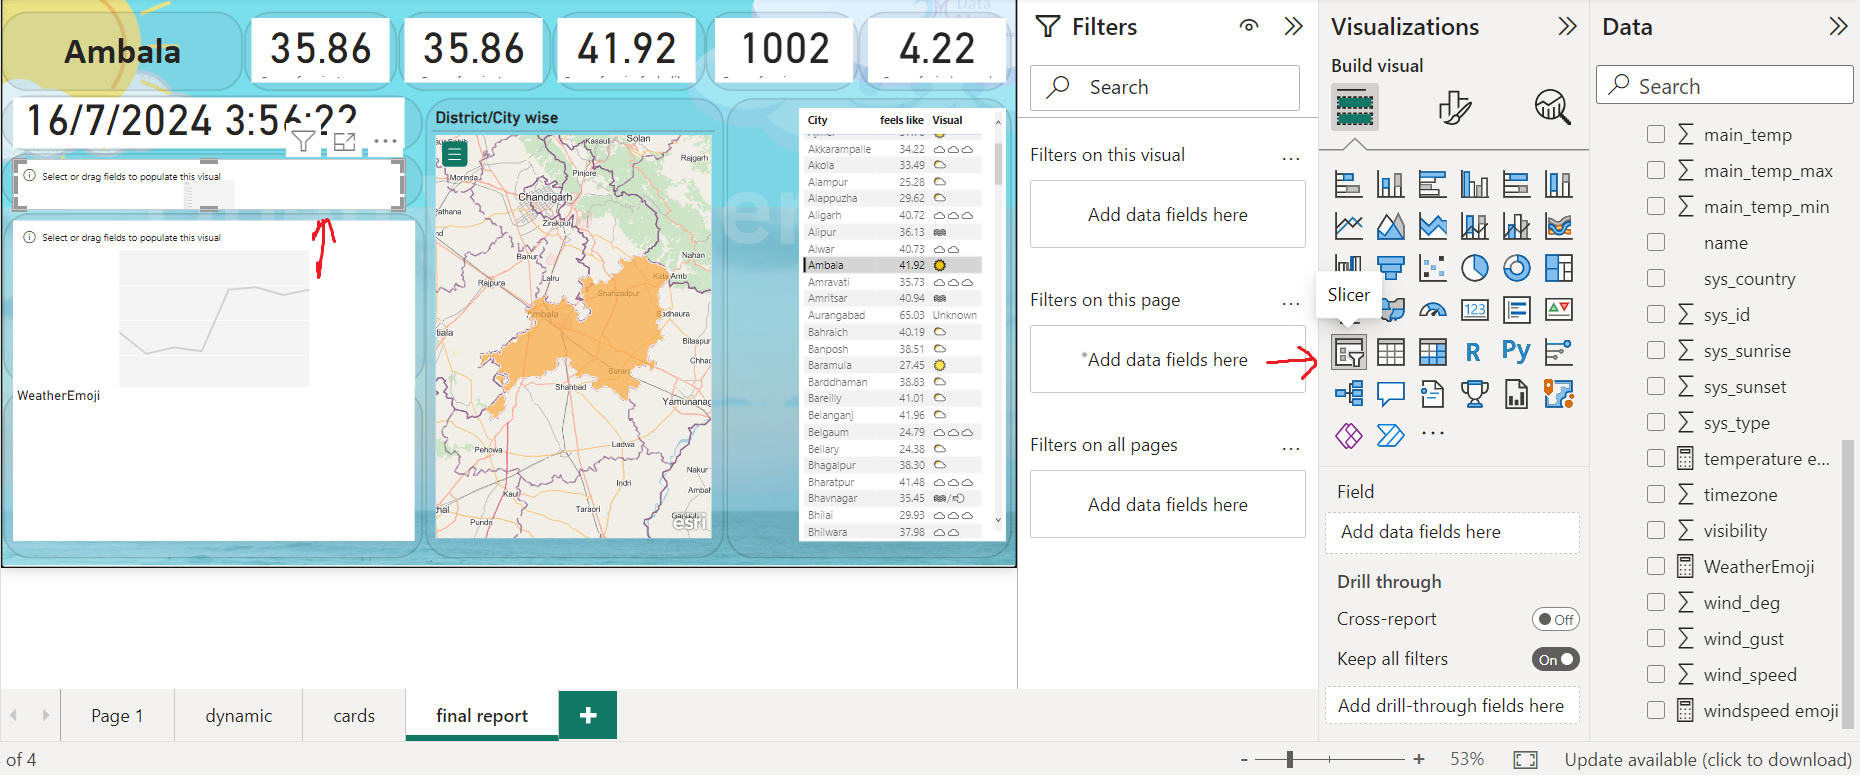

This screenshot's page, from the dashboard's own definition file:
{"tool":"powerbi","page":{"name":"final report","canvas":[1280,720],"ordinal":3},"visuals":[{"type":"card","title":"Max_Temp","fields":{"Values":["Sum(finalOpenWeatherData.main_temp_max)"]},"box":[308,28.3,173.9,81.3],"z":0},{"type":"card","title":"Min_Temp","fields":{"Values":["Sum(finalOpenWeatherData.main_temp_min)"]},"box":[508.4,26.5,173.9,81.3],"z":1000},{"type":"card","title":"Feels like","fields":{"Values":["Sum(finalOpenWeatherData.main_feels_like)"]},"box":[701.1,26.5,173.9,81.3],"z":2000},{"type":"card","title":"Pressure","fields":{"Values":["Sum(finalOpenWeatherData.main_pressure)"]},"box":[899.5,26.5,173.9,81.3],"z":3000},{"type":"card","title":"Wind Speed km/hr","fields":{"Values":["Sum(finalOpenWeatherData.wind_speed)"]},"box":[47.5,577.5,172.5,80],"z":4000},{"type":"card","fields":{"Values":["Min(finalOpenWeatherData.name)"]},"box":[0,24.6,275.9,83.2],"z":5000},{"type":"card","fields":{"Values":["Min(finalOpenWeatherData.date_time)"]},"box":[15.1,126.6,493.2,64.3],"z":6000},{"type":"slicer","fields":{"Values":["finalOpenWeatherData.name"]},"box":[920.3,139.8,359.1,194.6],"z":7000},{"type":"card","fields":{"Values":["finalOpenWeatherData.temperature"]},"box":[430.9,9.4,100.2,120.9],"z":8000},{"type":"card","fields":{"Values":["finalOpenWeatherData.temperature"]},"box":[631.2,5.7,100.2,120.9],"z":9000},{"type":"card","fields":{"Values":["finalOpenWeatherData.temperature"]},"box":[820.2,0,100.2,120.9],"z":10000},{"type":"card","fields":{"Values":["finalOpenWeatherData.degree emoji"]},"box":[421.4,24.6,60.5,66.1],"z":11000},{"type":"card","fields":{"Values":["finalOpenWeatherData.degree emoji"]},"box":[621.7,24.6,60.5,66.1],"z":12000},{"type":"card","fields":{"Values":["finalOpenWeatherData.degree emoji"]},"box":[810.7,24.6,60.5,66.1],"z":13000},{"type":"tableEx","fields":{"Values":["finalOpenWeatherData.name","Sum(finalOpenWeatherData.main_feels_like)","finalOpenWeatherData.WeatherEmoji","finalOpenWeatherData.description"]},"box":[920.3,353.4,359.1,351.5],"z":14000},{"type":"card","fields":{"Values":["finalOpenWeatherData.windspeed emoji"]},"box":[177.5,570,85,87.5],"z":15000},{"type":"lineChart","title":"Temp by City","fields":{"Category":["finalOpenWeatherData.name"],"Y":["Sum(finalOpenWeatherData.main_temp_max)"]},"box":[15,283.3,493.3,208.3],"z":16000},{"type":"card","fields":{"Values":["finalOpenWeatherData.WeatherEmoji"]},"box":[280,190.9,172.7,69.1],"z":17000},{"type":"esriVisual","title":"City_Map","fields":{"Location":["finalOpenWeatherData.name"]},"box":[554.9,140.9,345.7,546.1],"z":18000},{"type":"card","title":"Wind Angle degree","fields":{"Values":["Sum(finalOpenWeatherData.wind_deg)"]},"box":[260,575,192.5,82.5],"z":19000},{"type":"card","fields":{"Values":["finalOpenWeatherData.angle_emoji"]},"box":[395,562.5,135,95],"z":20000},{"type":"card","fields":{"Values":["Min(finalOpenWeatherData.main)"]},"box":[63.6,181.8,330.9,87.3],"z":21000},{"type":"card","title":"Country Code","fields":{"Values":["Min(finalOpenWeatherData.sys_country)"]},"box":[1100,27.3,160,83.6],"z":22000}]}

Visuals, with their boxes on the page's 1280x720 design canvas (x1, y1, x2, y2). These are canvas units, not pixel positions in the 1860x779 screenshot, which may show the page scaled, cropped or inside an application window:
"Max_Temp" card: x1=308, y1=28, x2=482, y2=110
"Min_Temp" card: x1=508, y1=26, x2=682, y2=108
"Feels like" card: x1=701, y1=26, x2=875, y2=108
"Pressure" card: x1=900, y1=26, x2=1073, y2=108
"Wind Speed km/hr" card: x1=48, y1=578, x2=220, y2=658
card - Min(finalOpenWeatherData.name): x1=0, y1=25, x2=276, y2=108
card - Min(finalOpenWeatherData.date_time): x1=15, y1=127, x2=508, y2=191
slicer - finalOpenWeatherData.name: x1=920, y1=140, x2=1279, y2=334
card - finalOpenWeatherData.temperature: x1=431, y1=9, x2=531, y2=130
card - finalOpenWeatherData.temperature: x1=631, y1=6, x2=731, y2=127
card - finalOpenWeatherData.temperature: x1=820, y1=0, x2=920, y2=121
card - finalOpenWeatherData.degree emoji: x1=421, y1=25, x2=482, y2=91
card - finalOpenWeatherData.degree emoji: x1=622, y1=25, x2=682, y2=91
card - finalOpenWeatherData.degree emoji: x1=811, y1=25, x2=871, y2=91
tableEx - finalOpenWeatherData.name x Sum(finalOpenWeatherData.main_feels_like): x1=920, y1=353, x2=1279, y2=705
card - finalOpenWeatherData.windspeed emoji: x1=178, y1=570, x2=262, y2=658
"Temp by City" lineChart: x1=15, y1=283, x2=508, y2=492
card - finalOpenWeatherData.WeatherEmoji: x1=280, y1=191, x2=453, y2=260
"City_Map" esriVisual: x1=555, y1=141, x2=901, y2=687
"Wind Angle degree" card: x1=260, y1=575, x2=452, y2=658
card - finalOpenWeatherData.angle_emoji: x1=395, y1=562, x2=530, y2=658
card - Min(finalOpenWeatherData.main): x1=64, y1=182, x2=394, y2=269
"Country Code" card: x1=1100, y1=27, x2=1260, y2=111
